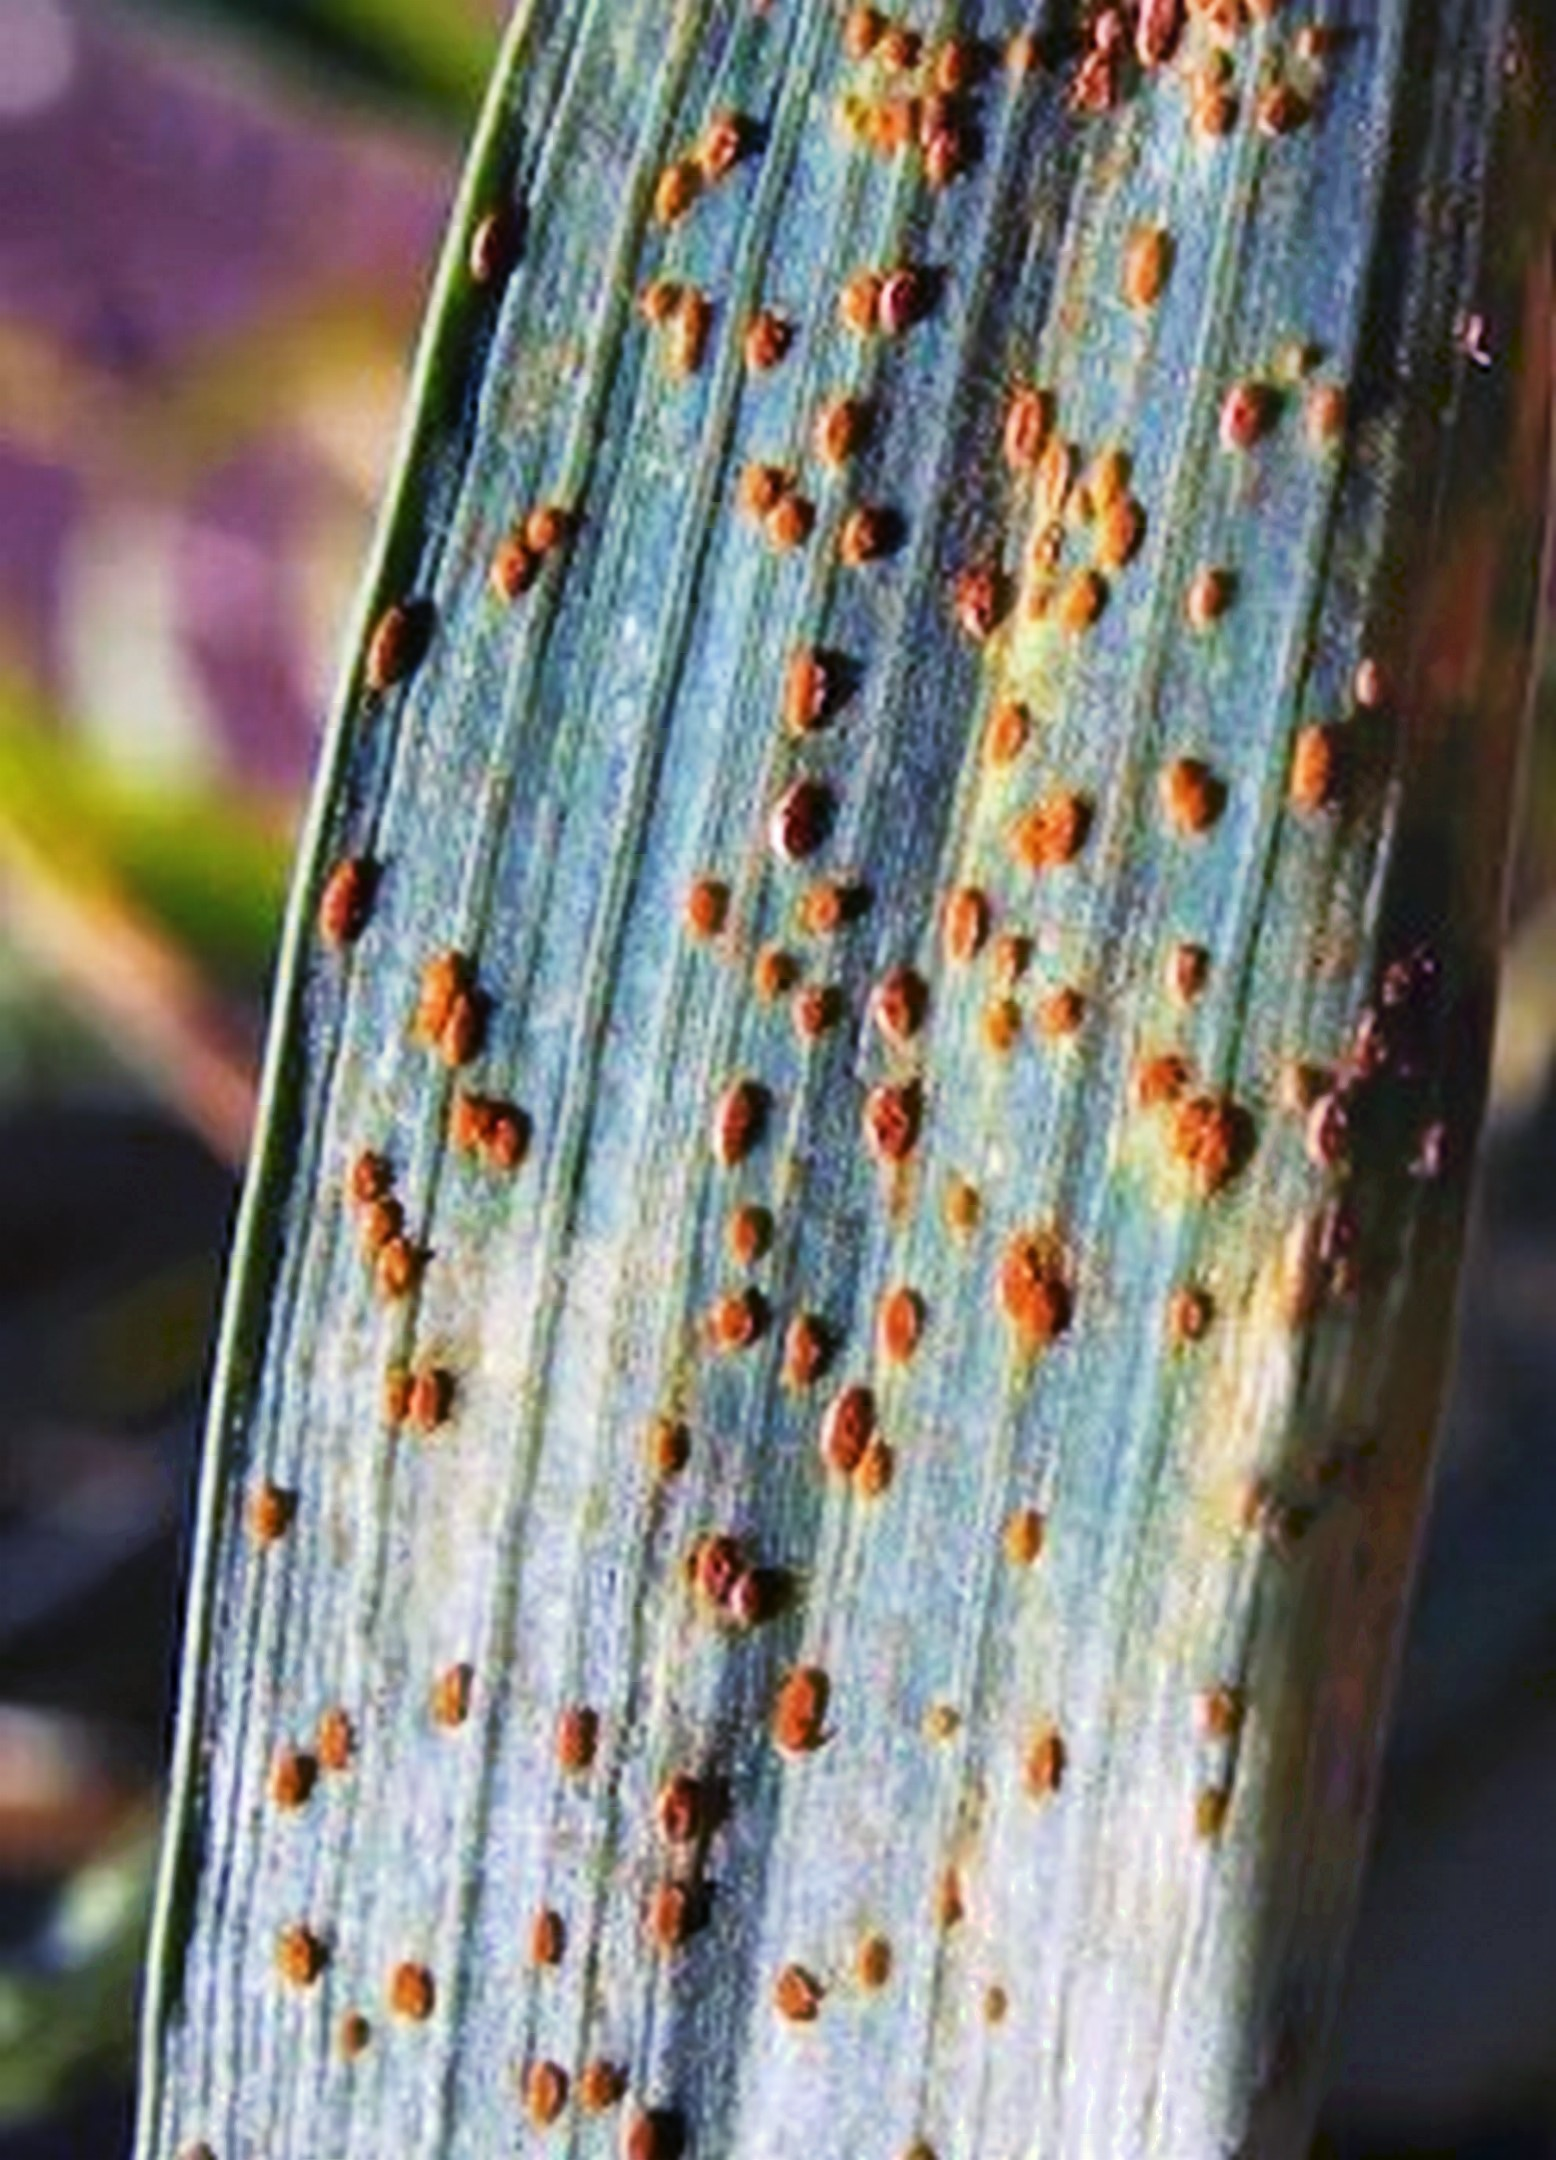Leaf Rust: (205, 10, 1479, 2053)
